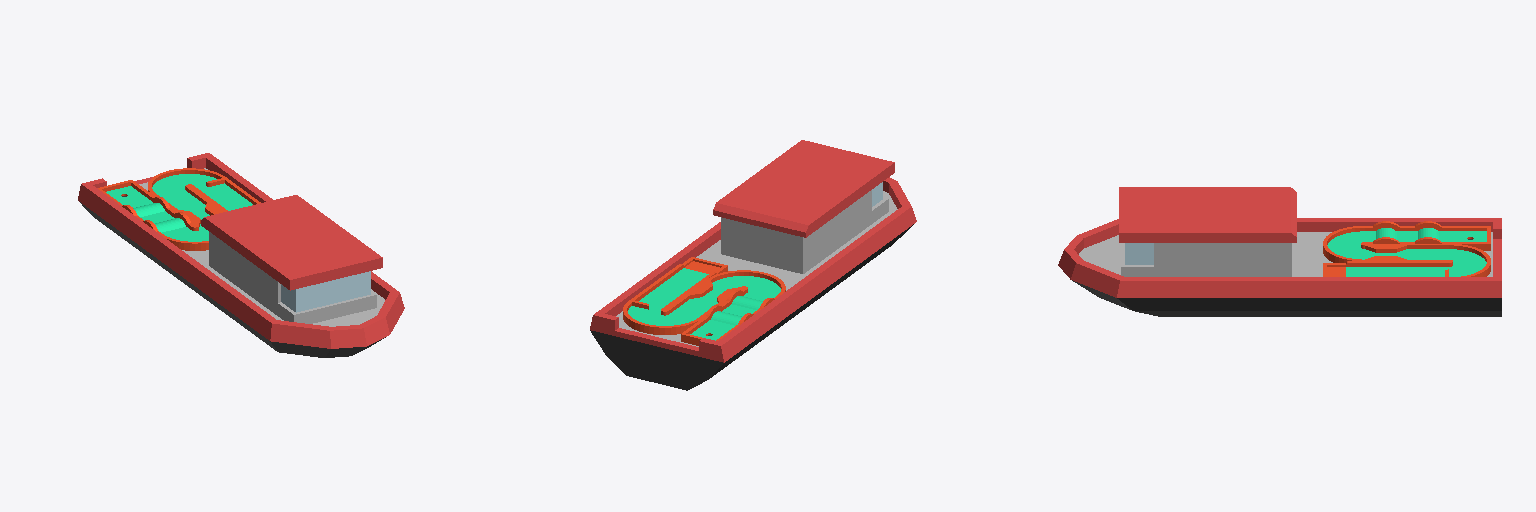
The model's file is boathol.obj.
3 views of the same model, side by side, from view 1: azimuth 30°, elevation 25°; view 2: azimuth 150°, elevation 25°; view 3: azimuth 270°, elevation 25° (orthographic).
Bounding box in the file's own units: 3.69 × 2.41 × 10.55.